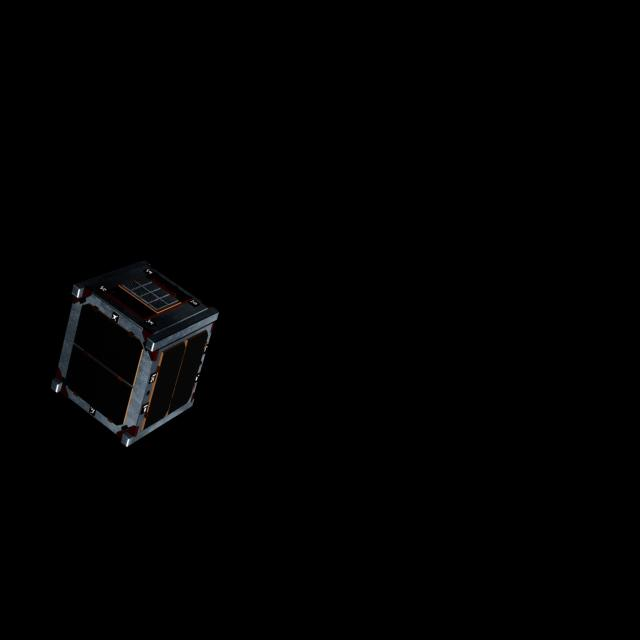satellite: (42, 247, 223, 451)
